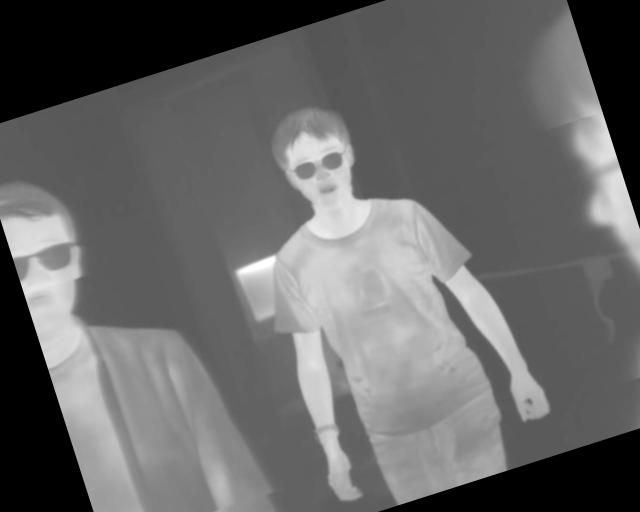face: (1, 162, 106, 338), (260, 94, 371, 221)
